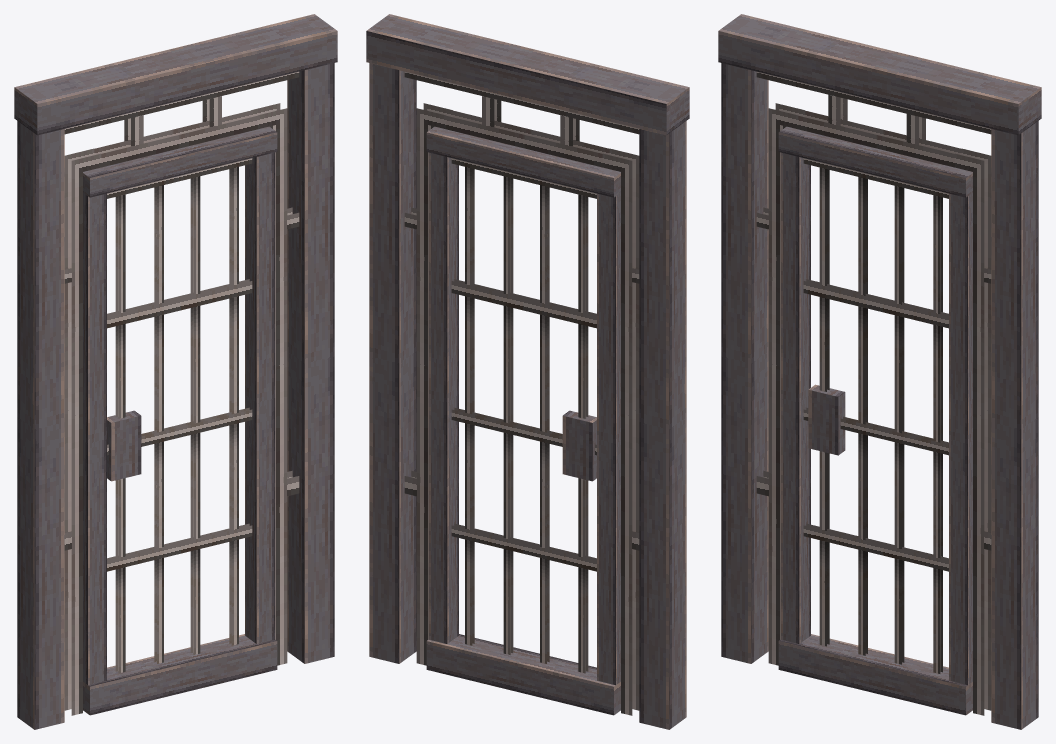
The model's file is Iron Fence - Door 1.fbx.
3 renders of one model, left to right at view 1: azimuth 30°, elevation 25°; view 2: azimuth 150°, elevation 25°; view 3: azimuth 330°, elevation 25°, orthographic.
Parts seen in each view (by area): view 1: IronFence_door, door; view 2: IronFence_door, door; view 3: IronFence_door, door.
Boxes of the visible parts, x1,y1,x2,y2 form: IronFence_door: [14, 14, 337, 729]; door: [83, 126, 277, 715]; IronFence_door: [366, 14, 689, 729]; door: [426, 126, 620, 715]; IronFence_door: [718, 14, 1041, 729]; door: [778, 126, 972, 715].
Bounding box in the file's own units: 1 × 2 × 0.1328.
